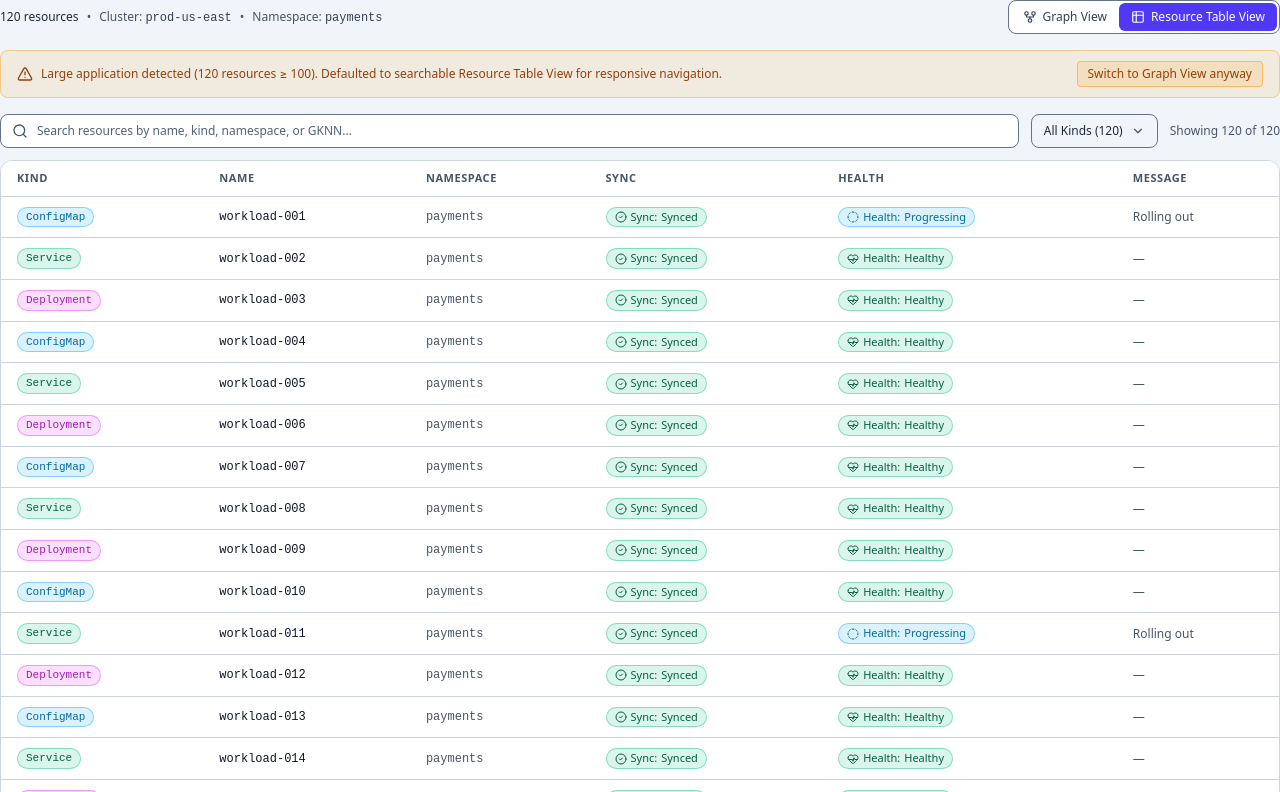
Scenario: ResourceGraph & dagre layout (T16.3 & Trap Guard T16.3) › handles 120-resource apps gracefully: auto-defaults to searchable Resource Table View and allows toggling to Graph View (Trap Guard T16.3)
This screenshot has width=1280, height=792.
Later steps or results of the test are not shown.
Expected: the message with test id "large-graph-banner" shows "120 resources ≥ 100", 0,50 -> 1279,98
Search filters 120 resources cleanly
In the search field labelled "Search resources by name, kind, namespace, or GKNN...": (509, 131) 0,114 -> 1019,148, type "workload-119"
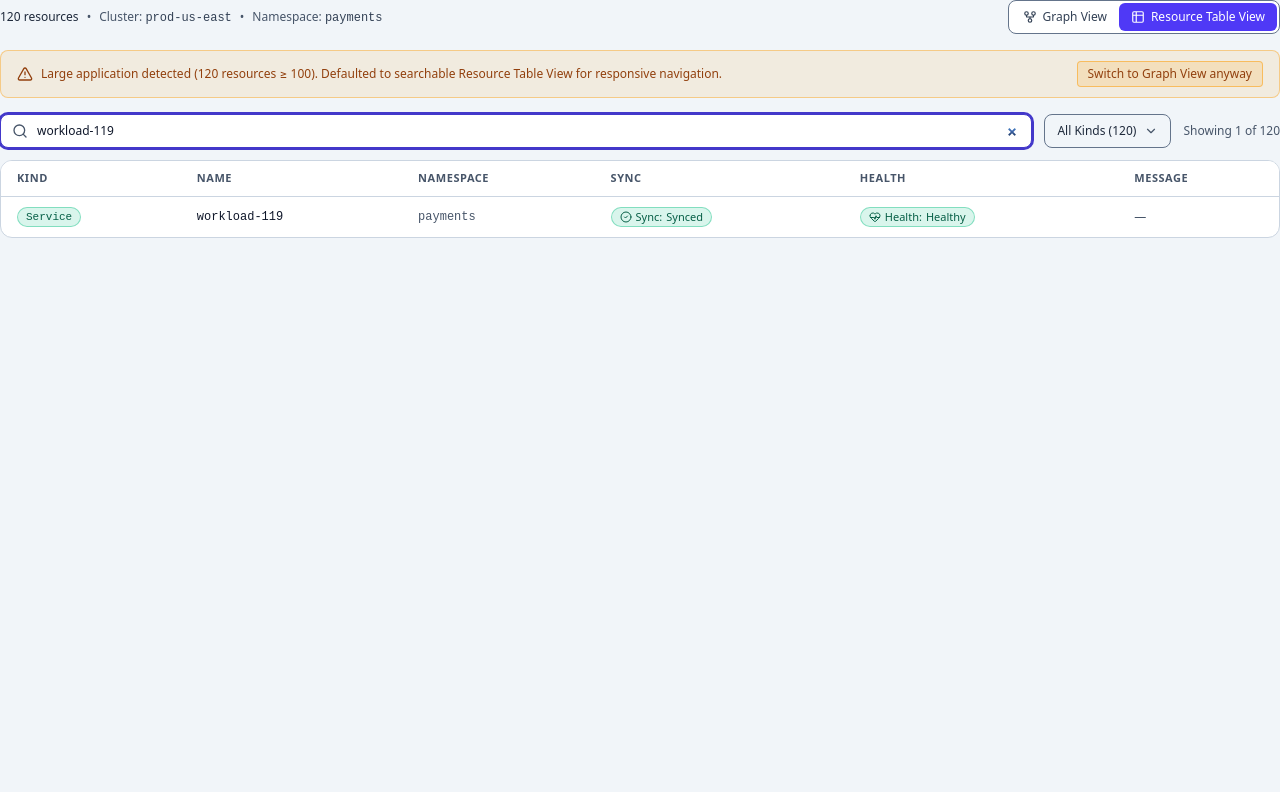
Expected: the text "workload-119" is shown, 181,196 -> 402,237
Result: the text "workload-001" is gone
Result: the text "Showing 1 of 120" is shown at 1183,123 -> 1279,139
Explicit toggle back to Graph View and back to Table View works
Click the button "Graph View": (1065, 17) 1010,3 -> 1119,31
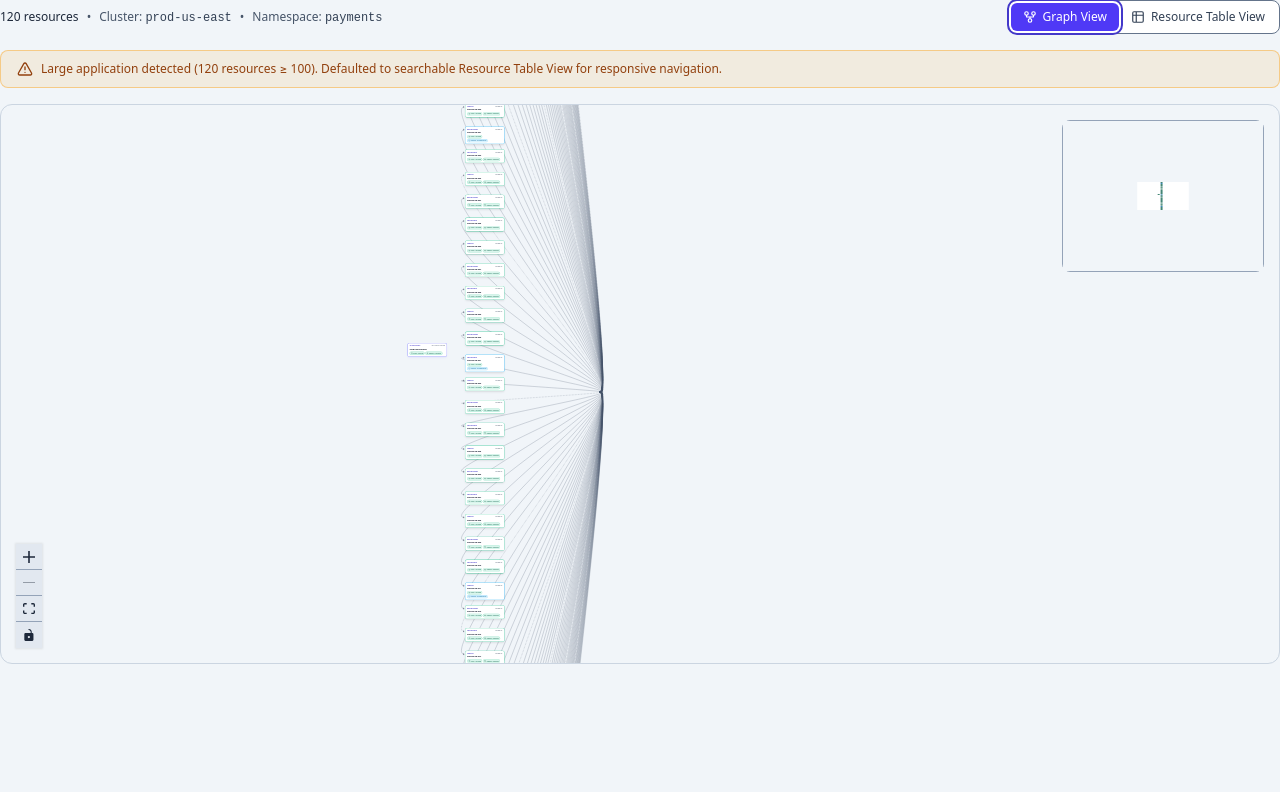
Result: the element with test id "resource-graph-canvas" is shown
